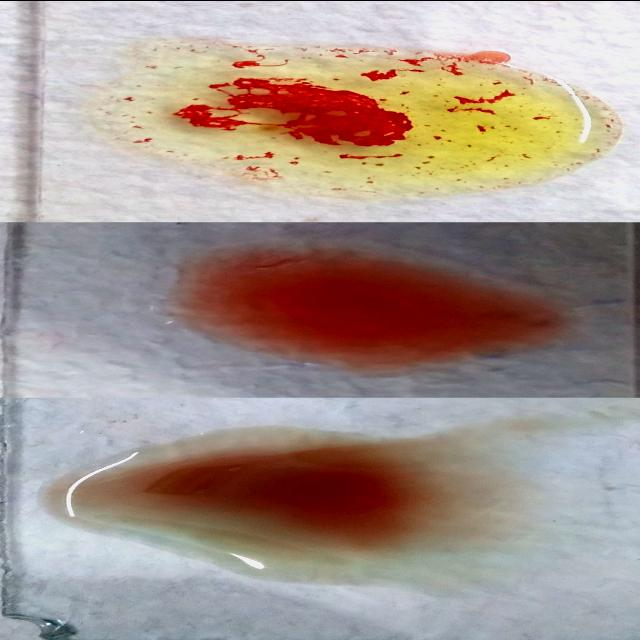B: (86, 54, 620, 194)
